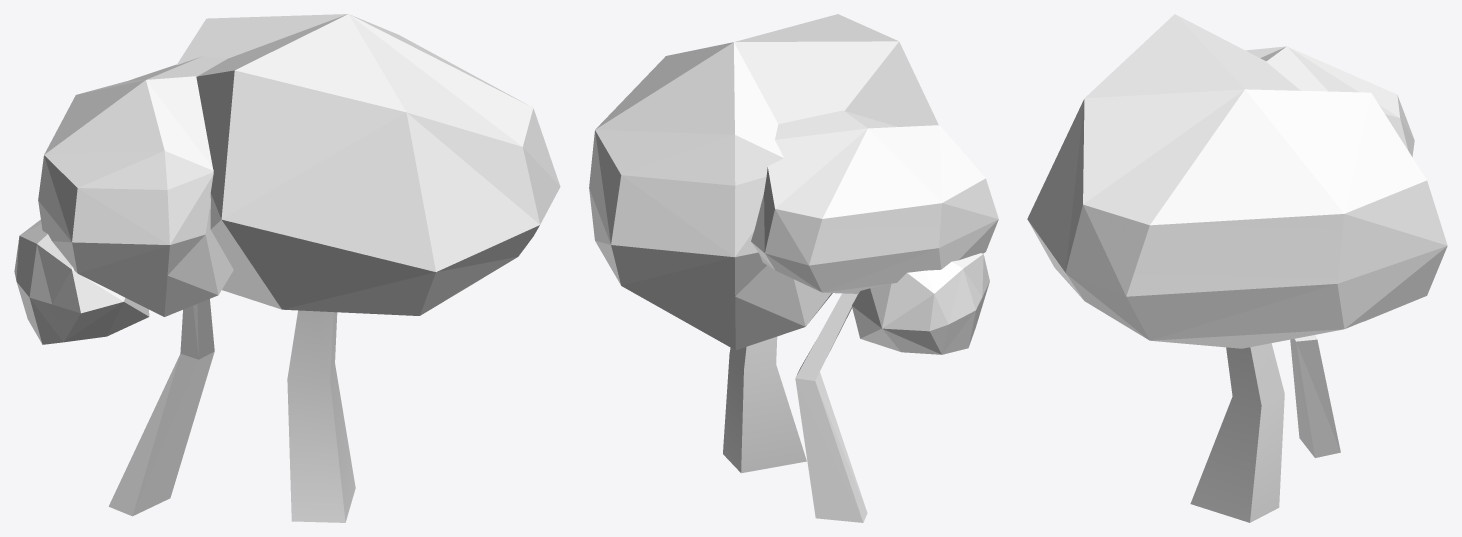
The model's file is bush_02.glb.
The picture shows the model from 3 angles, left to right: view 1: azimuth 30°, elevation 25°; view 2: azimuth 150°, elevation 25°; view 3: azimuth 270°, elevation 25°; orthographic projection. The views are drawn at different scales.
Visible parts, largest first — view 1: Bush_temp_climate_002; view 2: Bush_temp_climate_002; view 3: Bush_temp_climate_002.
Part boxes in pixels (box(x1,y1,x2,y2)): Bush_temp_climate_002: box(14, 14, 560, 522); Bush_temp_climate_002: box(589, 14, 998, 522); Bush_temp_climate_002: box(1027, 14, 1447, 522).
Bounding box in the file's own units: 1.32 × 1.38 × 1.2.
1 material, 1 textured.
